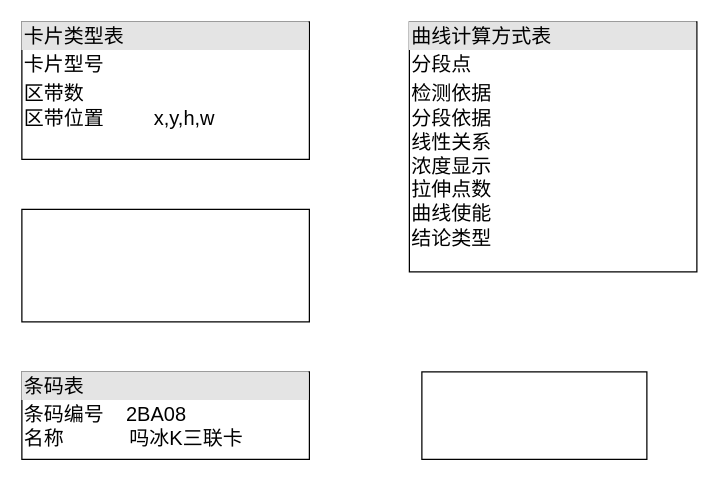
This 719x481 diagram has some shape labels left out. Here are the shapes that lost their labels. From the top down, the centre of each, then its label:
At point 165,265: "项目类型表 项目编码 1201 项目名称 吗啡".
At point 534,415: "样本类型 名称 毛发".
